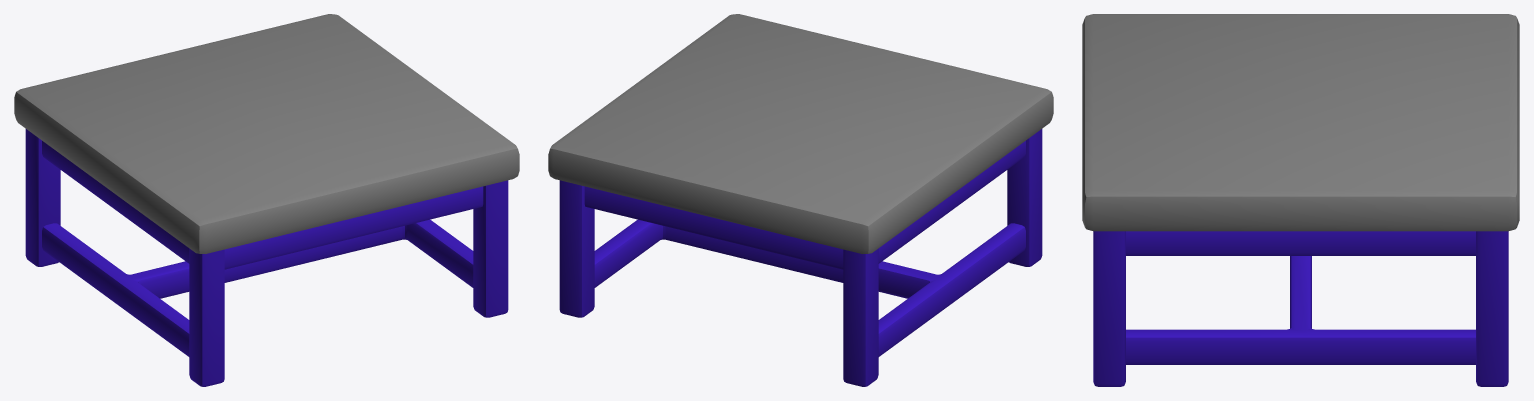
3 views of the same model, side by side, from view 1: azimuth 30°, elevation 25°; view 2: azimuth 150°, elevation 25°; view 3: azimuth 270°, elevation 25° (orthographic). The views are drawn at different scales.
Parts seen in each view (by area): view 1: Box011; view 2: Box011; view 3: Box011.
Part boxes in pixels (box(x1,y1,x2,y2)): Box011: box(14, 14, 519, 386); Box011: box(548, 14, 1053, 386); Box011: box(1082, 14, 1519, 386).
Bounding box in the file's own units: 100 × 50 × 100.
